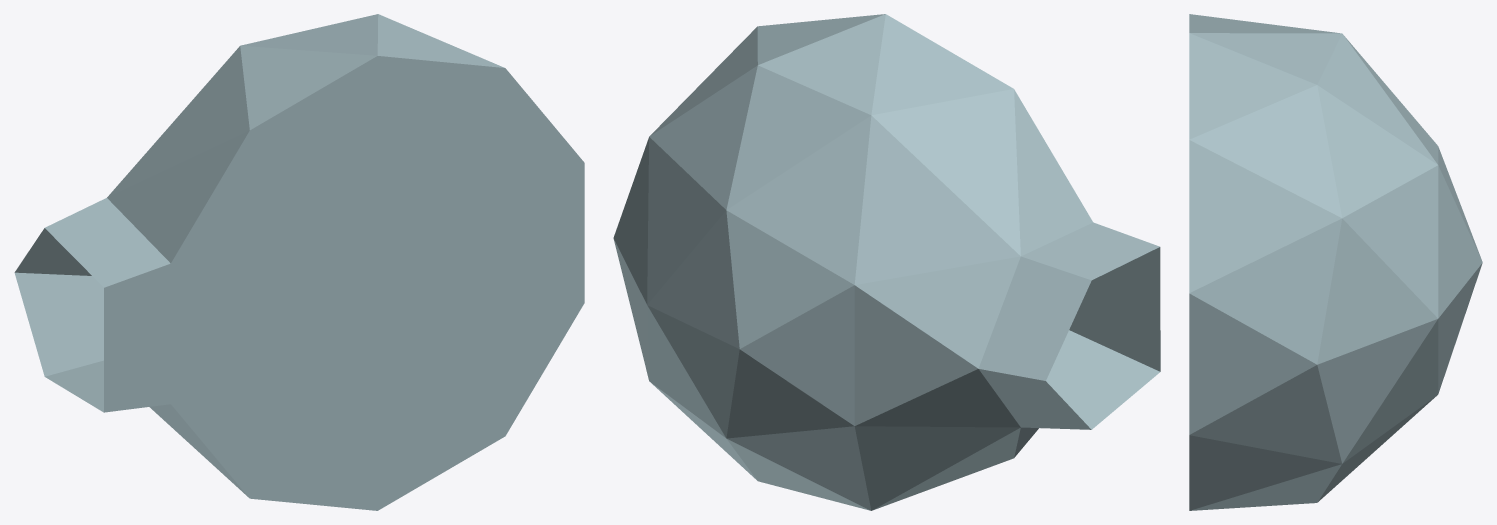
The model's file is ice_share_igloo.FBX.
The picture shows the model from 3 angles, left to right: view 1: azimuth 30°, elevation 25°; view 2: azimuth 150°, elevation 25°; view 3: azimuth 270°, elevation 25°; orthographic projection.
Visible parts, largest first — view 1: winter_igloo; view 2: winter_igloo; view 3: winter_igloo.
Part boxes in pixels (box(x1,y1,x2,y2)): winter_igloo: box(14, 14, 584, 510); winter_igloo: box(613, 14, 1160, 510); winter_igloo: box(1189, 14, 1482, 510).
Bounding box in the file's own units: 163 × 147 × 85.19.
